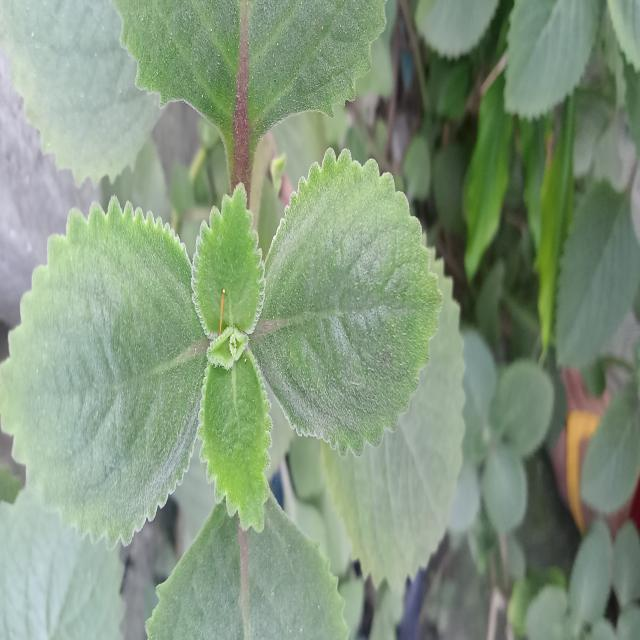Oregano: (1, 155, 465, 556)
